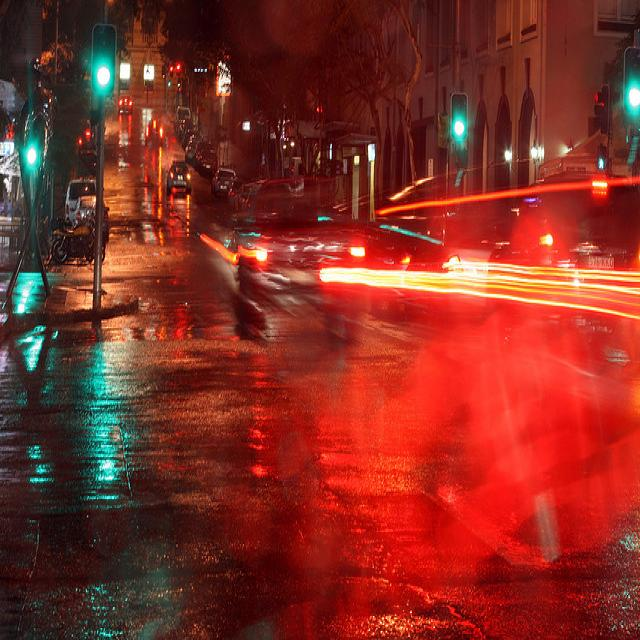motor: (52, 225, 105, 264)
